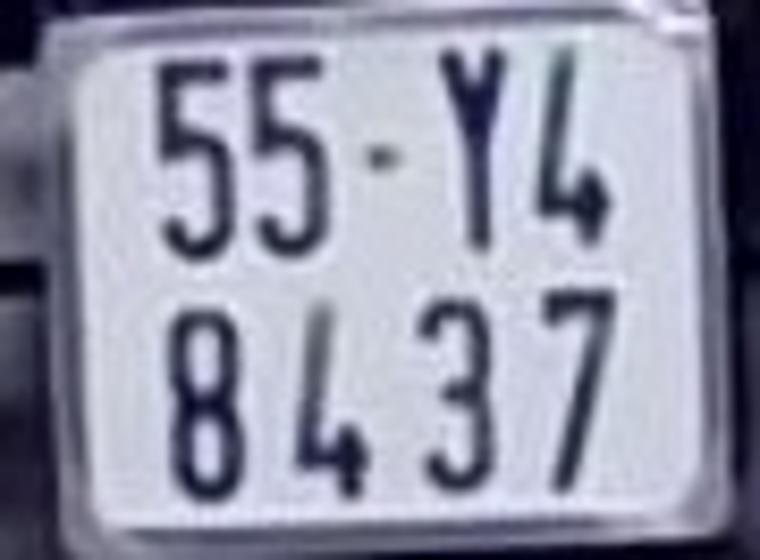-: (360, 147, 400, 166)
3: (419, 294, 497, 488)
4: (289, 301, 370, 496), (531, 46, 607, 243)
5: (249, 57, 329, 258), (157, 57, 232, 260)
7: (539, 287, 617, 490)
8: (163, 304, 248, 504)
Y: (437, 46, 510, 246)
